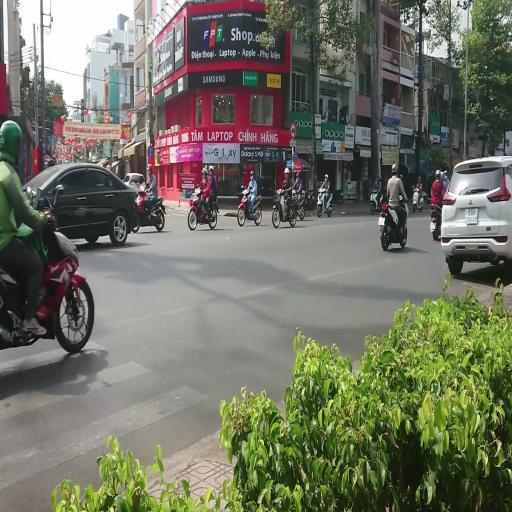bikes: (0, 191, 94, 354), (131, 186, 166, 232), (378, 198, 408, 250), (188, 187, 218, 230), (237, 186, 262, 226), (272, 188, 297, 228), (53, 137, 85, 164), (316, 185, 332, 217), (430, 202, 442, 240), (290, 190, 305, 220), (370, 184, 384, 214), (411, 184, 424, 212), (304, 188, 314, 210), (332, 188, 344, 204), (440, 170, 449, 191)
helmet: (0, 119, 22, 158), (391, 163, 398, 173), (139, 183, 146, 193), (202, 167, 208, 175), (138, 176, 144, 183), (208, 166, 214, 172), (195, 188, 201, 194), (284, 168, 289, 174), (435, 170, 440, 176), (440, 171, 444, 178), (147, 165, 152, 170), (244, 189, 249, 194), (250, 170, 254, 176), (376, 175, 380, 180), (399, 174, 403, 179), (444, 170, 447, 176), (439, 170, 442, 176), (440, 170, 444, 174), (325, 174, 328, 179), (296, 173, 299, 178), (419, 183, 422, 188), (418, 177, 421, 181), (440, 168, 443, 172)
